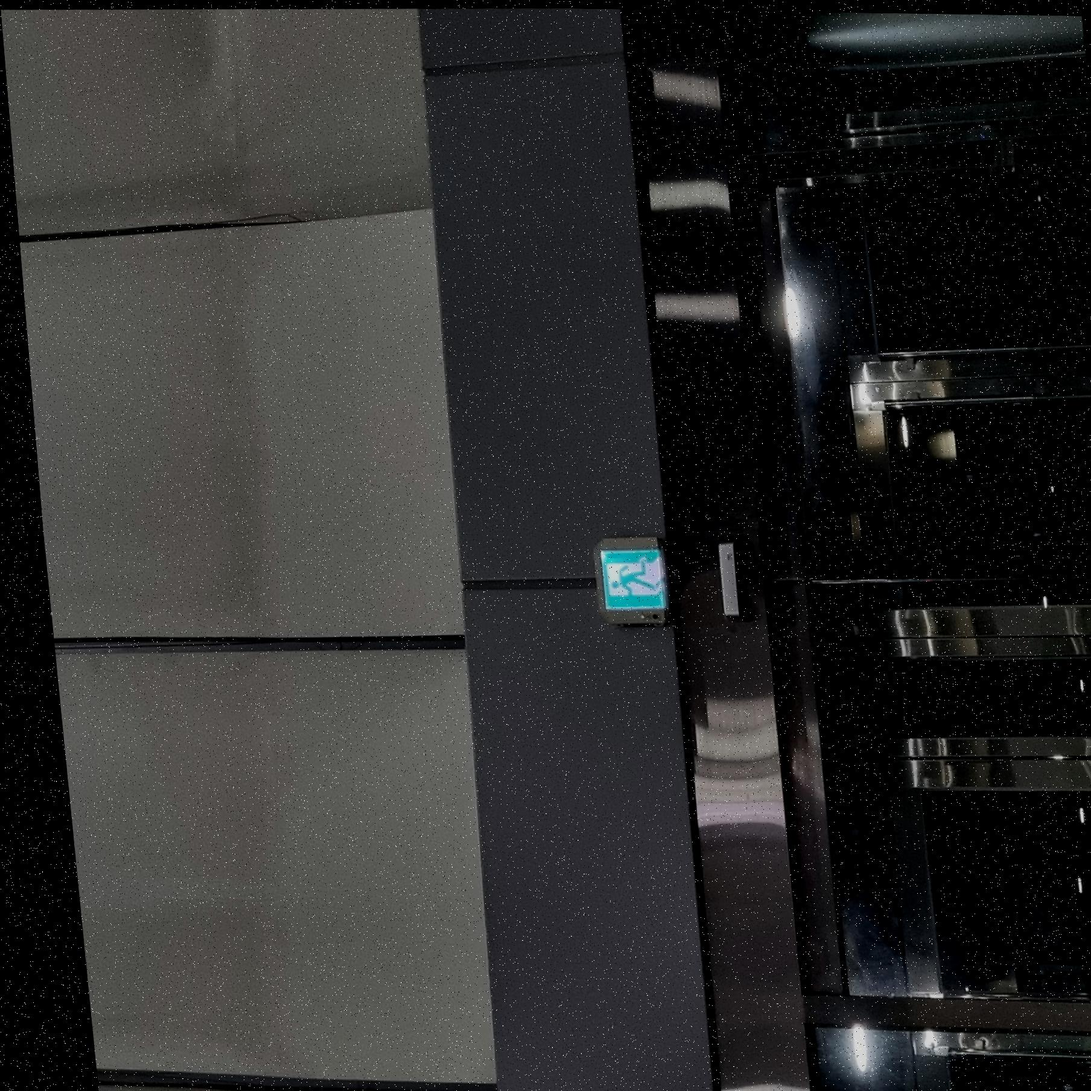emergency_exit: (594, 538, 669, 623)
